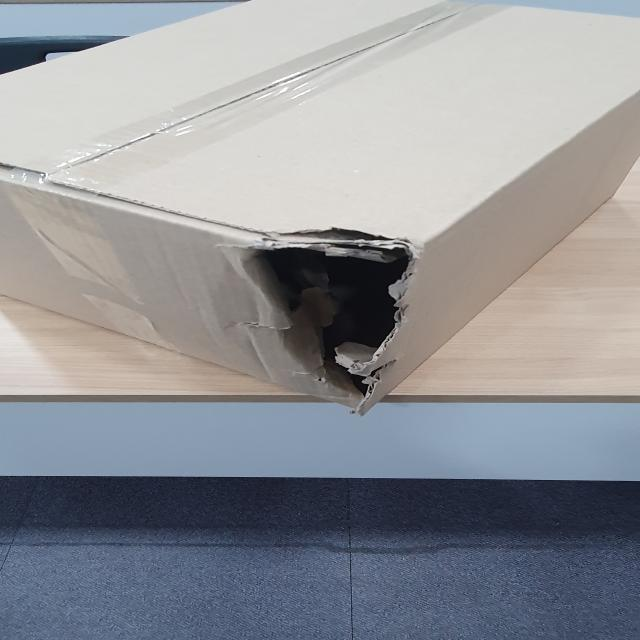hole: (230, 229, 437, 409)
